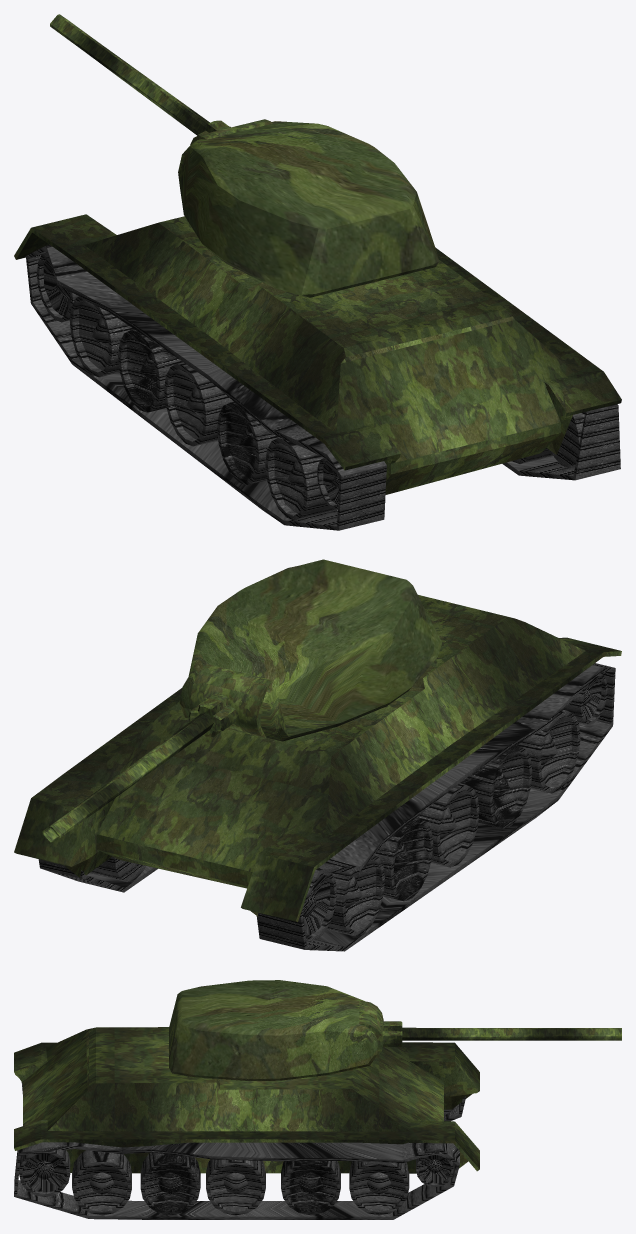
File: tank_exp.fbx
3 renders of one model, top to bottom at view 1: azimuth 30°, elevation 25°; view 2: azimuth 150°, elevation 25°; view 3: azimuth 270°, elevation 25°, orthographic. The views are drawn at different scales.
Parts seen in each view (by area): view 1: Box001, Box002, Plane006, Plane004, Plane005, Plane007, Cylinder001, Cylinder035, Cylinder031, Cylinder037, Cylinder033, Cylinder039 (+7 smaller); view 2: Box001, Box002, Plane006, Plane004, Plane005, Cylinder001, Cylinder002, Cylinder033, Cylinder031, Cylinder037, Cylinder035, Cylinder039 (+11 smaller); view 3: Box001, Box002, Plane007, Plane005, Plane004, Cylinder001, Cylinder022, Cylinder024, Cylinder026, Cylinder020, Cylinder018, Cylinder025 (+9 smaller).
Part boxes in pixels (box(x1,y1,x2,y2)): Box001: box(84, 216, 575, 494); Box002: box(178, 121, 439, 297); Plane006: box(26, 244, 386, 530); Plane004: box(14, 214, 400, 471); Plane005: box(435, 247, 621, 454); Plane007: box(502, 404, 620, 480); Cylinder001: box(50, 14, 230, 135); Cylinder035: box(265, 437, 337, 520); Cylinder031: box(164, 362, 233, 446); Cylinder037: box(118, 329, 182, 412); Cylinder033: box(217, 401, 279, 485); Cylinder039: box(69, 296, 133, 377); Box001: box(87, 595, 585, 888); Box002: box(179, 559, 441, 741); Plane006: box(256, 663, 615, 951); Plane004: box(241, 637, 621, 922); Plane005: box(14, 687, 182, 878); Cylinder001: box(42, 694, 236, 843); Cylinder002: box(190, 664, 273, 737); Cylinder033: box(460, 745, 532, 828); Cylinder031: box(416, 783, 479, 867); Cylinder037: box(374, 817, 433, 901); Cylinder035: box(517, 710, 580, 793); Cylinder039: box(326, 855, 384, 936); Box001: box(23, 1027, 443, 1131); Box002: box(169, 980, 377, 1080); Plane007: box(14, 1142, 459, 1219); Plane005: box(14, 1120, 479, 1173); Plane004: box(14, 1042, 479, 1109); Cylinder001: box(380, 1021, 621, 1046); Cylinder022: box(353, 1164, 405, 1209); Cylinder024: box(144, 1164, 196, 1209); Cylinder026: box(76, 1164, 128, 1209); Cylinder020: box(285, 1164, 336, 1209); Cylinder018: box(210, 1164, 261, 1209); Cylinder025: box(72, 1150, 131, 1215).
Bounding box in the file's own units: 69.2 × 53.32 × 173.
2 materials, 2 textured.
